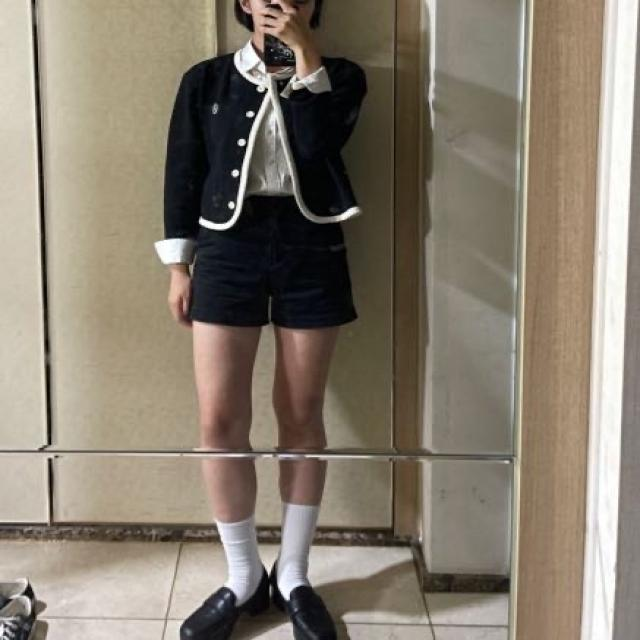cardigan: (162, 50, 363, 259)
shortpants: (189, 197, 357, 329)
